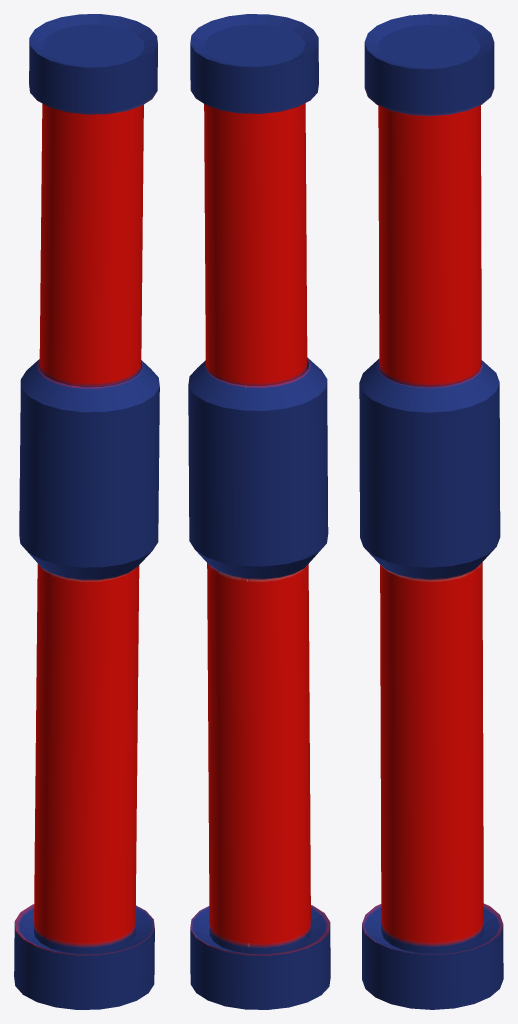
File: Lab Buizen model 8.fbx
3 views of the same model, side by side, from view 1: azimuth 30°, elevation 25°; view 2: azimuth 150°, elevation 25°; view 3: azimuth 270°, elevation 25° (orthographic).
Parts seen in each view (by area): view 1: polySurface1; view 2: polySurface1; view 3: polySurface1.
Boxes of the visible parts, <box> form: polySurface1: <box>14,14,159,1009</box>; polySurface1: <box>188,14,330,1009</box>; polySurface1: <box>359,14,503,1009</box>.
Size of the model in its own units: 28.51 by 203 by 28.12.
Materials: 1 (1 with a texture image).
